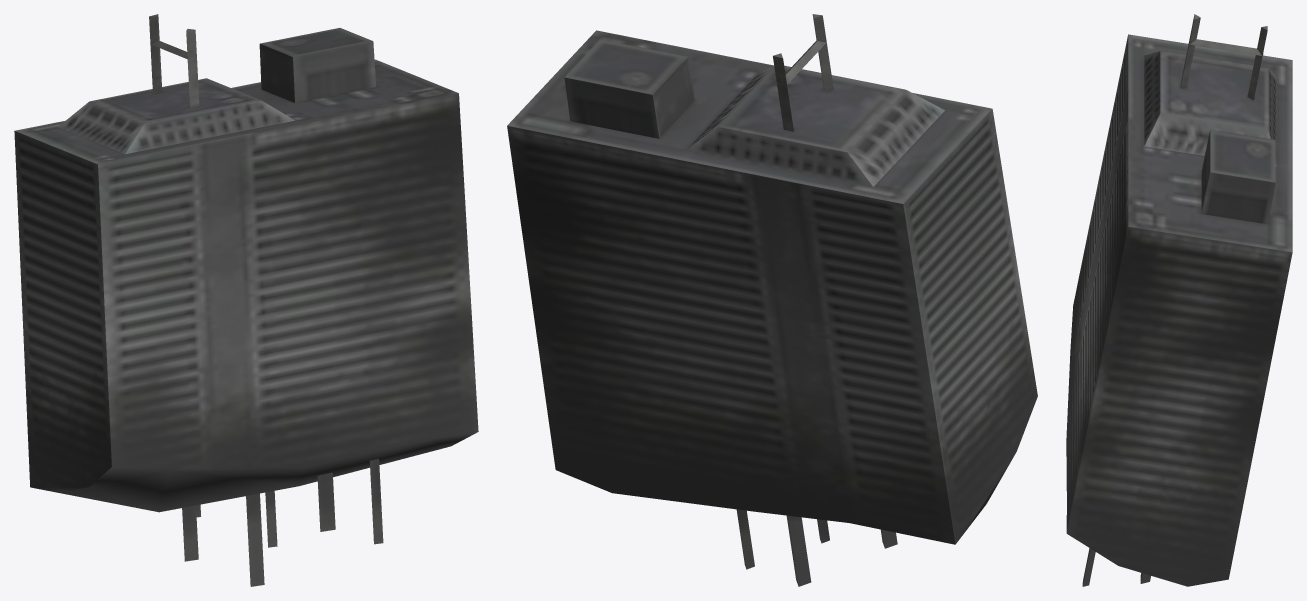
File: skyBuildingAAC_pos_grp (9).fbx
3 renders of one model, left to right at view 1: azimuth 30°, elevation 25°; view 2: azimuth 150°, elevation 25°; view 3: azimuth 270°, elevation 25°, orthographic. The views are drawn at different scales.
Visible parts, largest first — view 1: skyBuildingAAC_geo; view 2: skyBuildingAAC_geo; view 3: skyBuildingAAC_geo.
Boxes of the visible parts, <box> form: skyBuildingAAC_geo: <box>14,14,478,586</box>; skyBuildingAAC_geo: <box>507,14,1037,586</box>; skyBuildingAAC_geo: <box>1066,14,1292,586</box>.
Size of the model in its own units: 5.94 by 8.22 by 3.09.
Materials: 1 (1 with a texture image).
